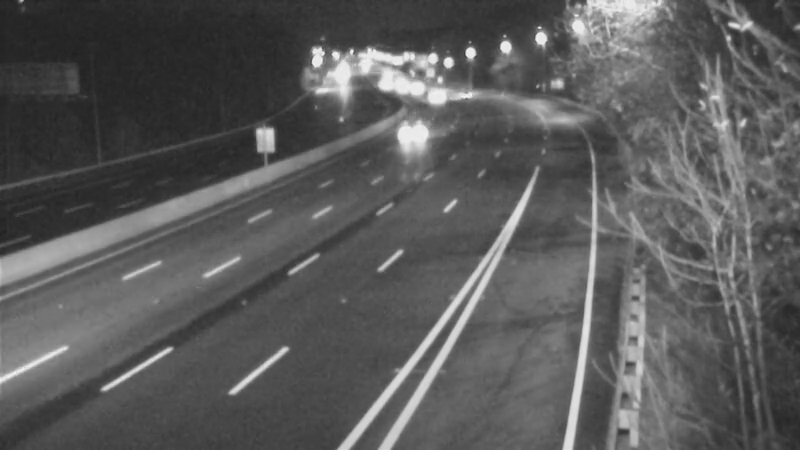vehicle: (441, 66, 491, 116), (408, 68, 458, 118), (386, 106, 436, 156)
